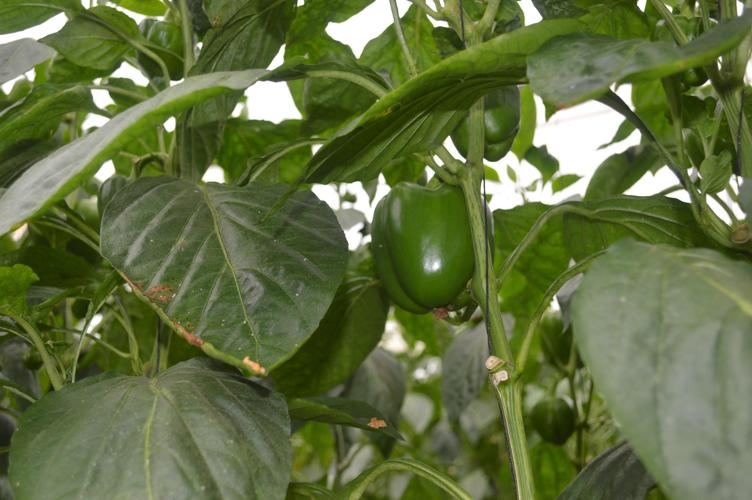BellPepper: (369, 182, 471, 308), (446, 97, 516, 158), (129, 18, 182, 78)
